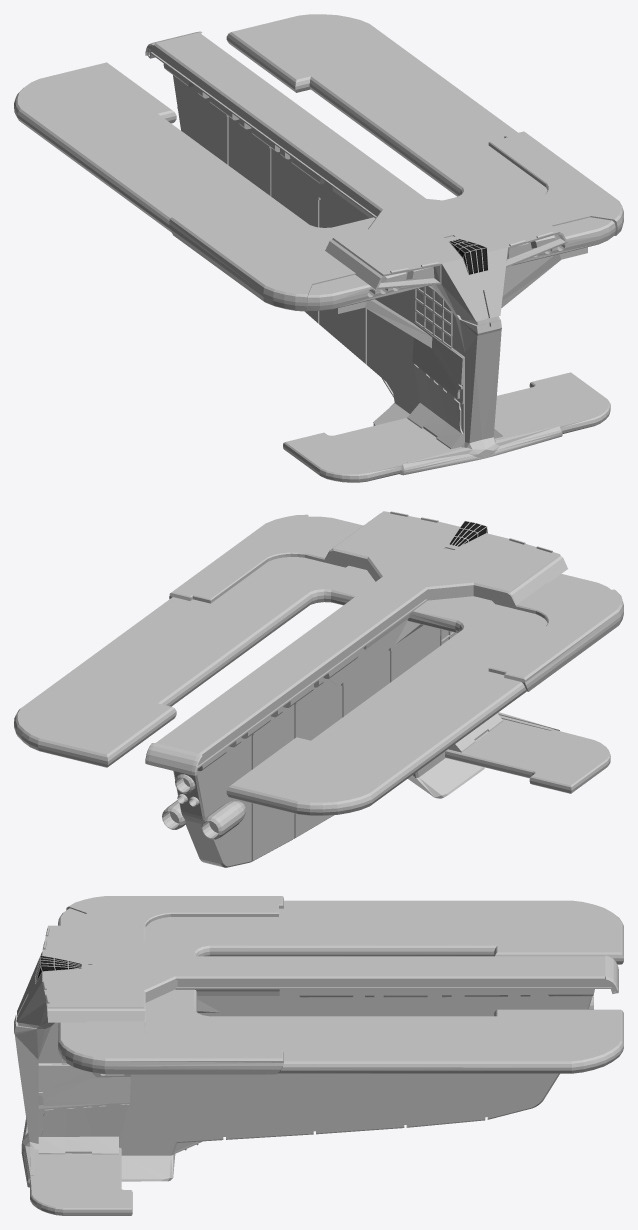
File: merchant_cruiser_medium_l0.fbx
3 renders of one model, top to bottom at view 1: azimuth 30°, elevation 25°; view 2: azimuth 150°, elevation 25°; view 3: azimuth 270°, elevation 25°, orthographic. The views are drawn at different scales.
Visible parts, largest first — view 1: mesh_node; view 2: mesh_node; view 3: mesh_node.
Boxes of the visible parts, box(x1,y1,x2,y2) form: mesh_node: box(14, 14, 623, 482); mesh_node: box(14, 511, 623, 867); mesh_node: box(14, 896, 623, 1215).
Size of the model in its own units: 63.99 by 37.25 by 100.
